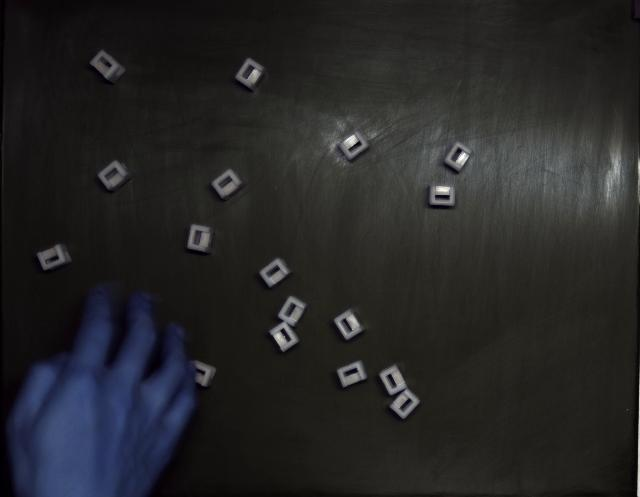fourth_side: (90, 50, 125, 84), (98, 160, 134, 191), (211, 169, 245, 200), (235, 58, 266, 91), (36, 244, 71, 271), (269, 321, 299, 352), (259, 259, 291, 288), (379, 364, 408, 396), (334, 310, 364, 340), (278, 296, 308, 326), (390, 389, 420, 419), (339, 131, 369, 160), (444, 141, 472, 172), (336, 361, 368, 388), (188, 225, 215, 254), (429, 186, 455, 206)
